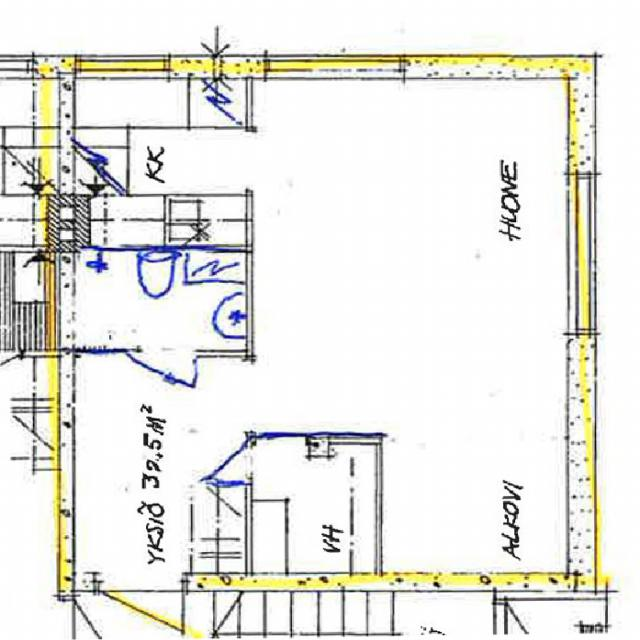door: (128, 350, 195, 416), (204, 447, 251, 483)
